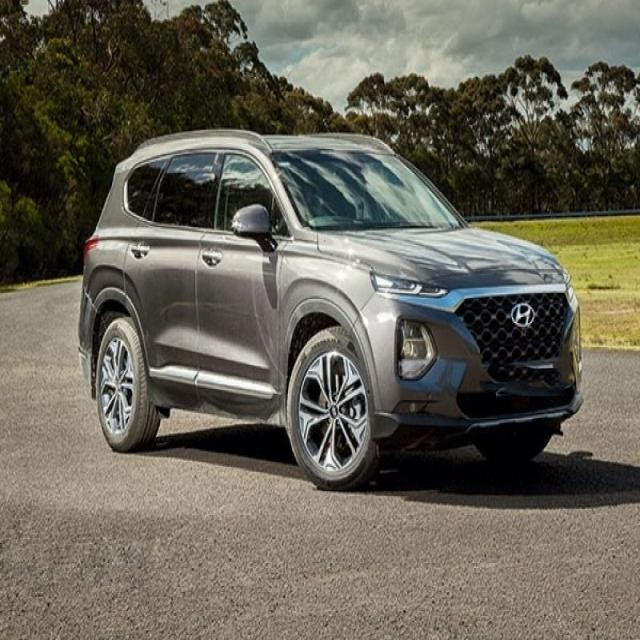car: (78, 127, 582, 486)
